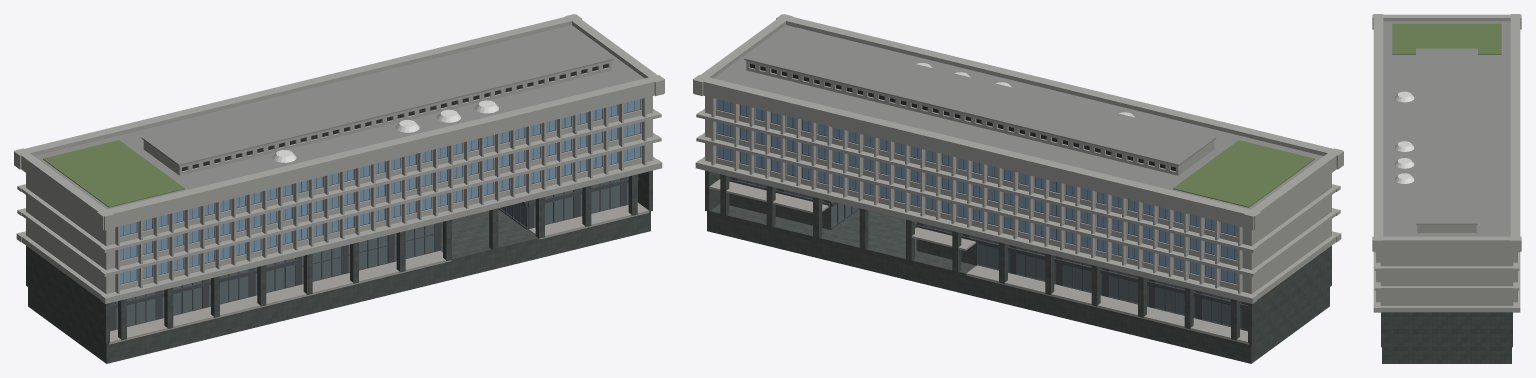
The picture shows the model from 3 angles, left to right: view 1: azimuth 30°, elevation 25°; view 2: azimuth 150°, elevation 25°; view 3: azimuth 270°, elevation 25°; orthographic projection. The views are drawn at different scales.
Parts seen in each view (by area): view 1: admin__concrete, admin__roof, admin__pier, admin__glass, admin__frame, admin__lobbyglass, admin__paving, admin__green, admin__dark, admin__trim; view 2: admin__concrete, admin__roof, admin__pier, admin__glass, admin__frame, admin__green, admin__paving, admin__lobbyglass, admin__dark; view 3: admin__roof, admin__concrete, admin__pier, admin__green, admin__trim.
Boxes of the visible parts, x1=… form: admin__concrete: x1=14, y1=14, x2=664, y2=303; admin__roof: x1=34, y1=25, x2=644, y2=209; admin__pier: x1=26, y1=170, x2=652, y2=363; admin__glass: x1=120, y1=99, x2=640, y2=283; admin__frame: x1=110, y1=99, x2=640, y2=331; admin__lobbyglass: x1=116, y1=176, x2=628, y2=328; admin__paving: x1=109, y1=203, x2=649, y2=344; admin__green: x1=43, y1=140, x2=184, y2=207; admin__dark: x1=128, y1=64, x2=628, y2=300; admin__trim: x1=272, y1=100, x2=498, y2=162; admin__concrete: x1=693, y1=14, x2=1343, y2=303; admin__roof: x1=713, y1=25, x2=1323, y2=209; admin__pier: x1=705, y1=170, x2=1331, y2=363; admin__glass: x1=717, y1=99, x2=1237, y2=283; admin__frame: x1=717, y1=99, x2=1247, y2=331; admin__green: x1=1173, y1=140, x2=1314, y2=207; admin__paving: x1=709, y1=179, x2=1248, y2=344; admin__lobbyglass: x1=729, y1=176, x2=1241, y2=328; admin__dark: x1=729, y1=64, x2=1229, y2=300; admin__roof: x1=1383, y1=21, x2=1510, y2=236; admin__concrete: x1=1372, y1=14, x2=1521, y2=312; admin__pier: x1=1381, y1=312, x2=1512, y2=363; admin__green: x1=1392, y1=23, x2=1501, y2=54; admin__trim: x1=1394, y1=91, x2=1414, y2=183.
Bounding box in the file's own units: 88.5 × 24.3 × 24.62.
10 materials, 1 textured.
